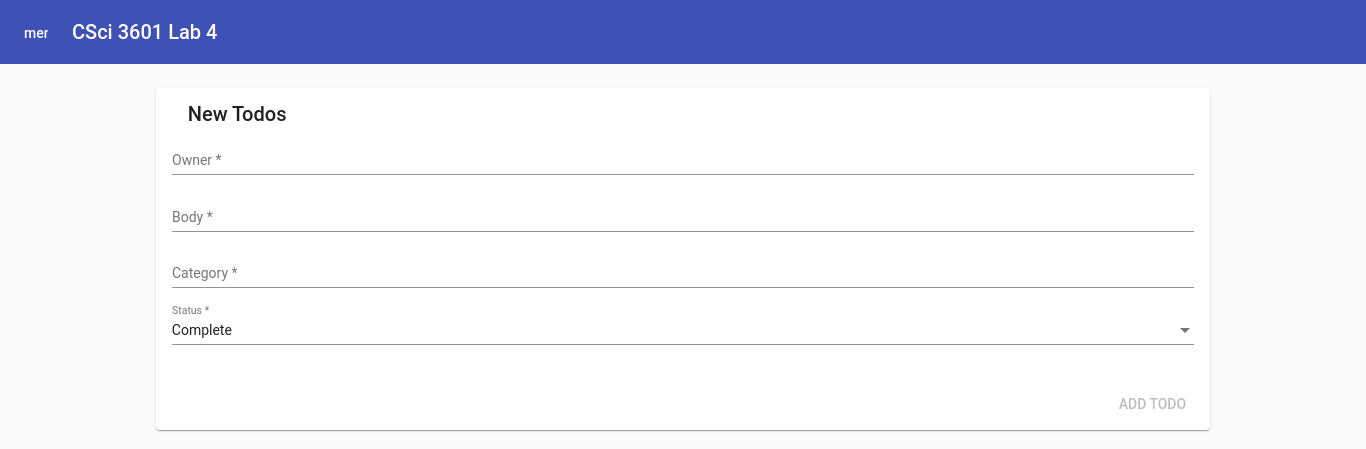
Test case: Add Todo › Should enable and disable the add todo button
Check: the button with test id "confirmAddTodosButton" is disabled, box [1103,386,1203,422]
Type "test" into the field labelled "Owner *" at (683, 161), box [172,153,1194,169]
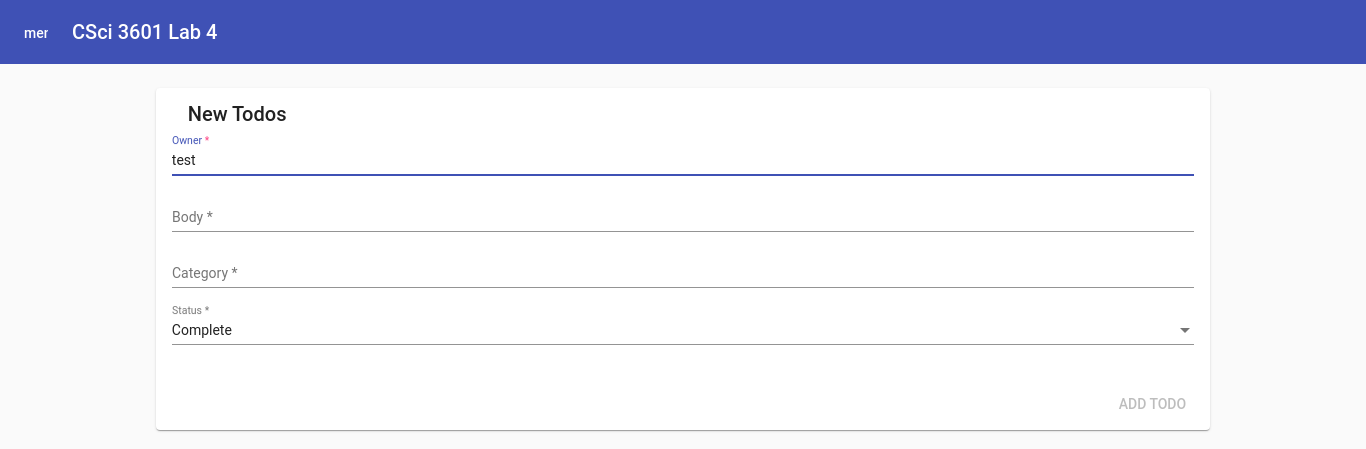
Check: the button with test id "confirmAddTodosButton" is disabled, box [1103,386,1203,422]
Type "yadda yadda yadda" into the field labelled "Body *" at (683, 218), box [172,210,1194,226]
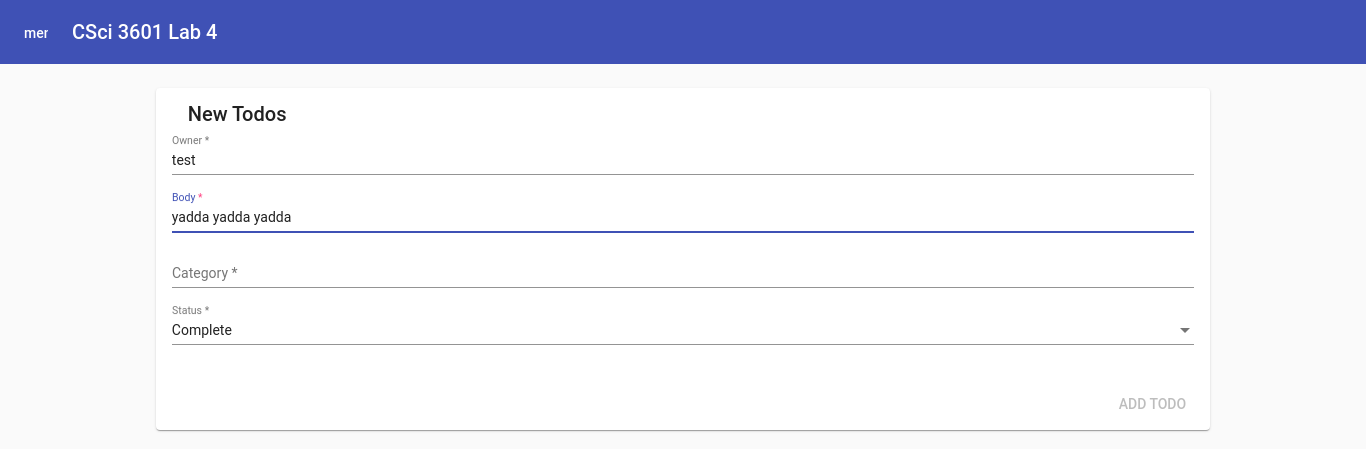
Check: the button with test id "confirmAddTodosButton" is disabled, box [1103,386,1203,422]
Type "yadda yadda category yadda" into the field labelled "Category *" at (683, 274), box [172,266,1194,282]
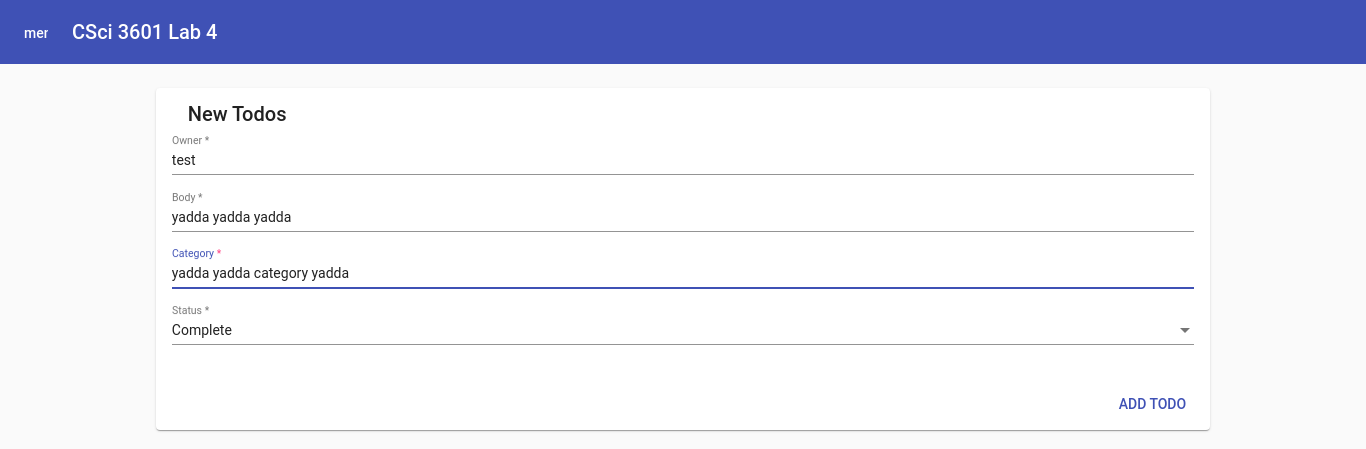
Check: the button with test id "confirmAddTodosButton" is enabled, box [1103,386,1203,422]
